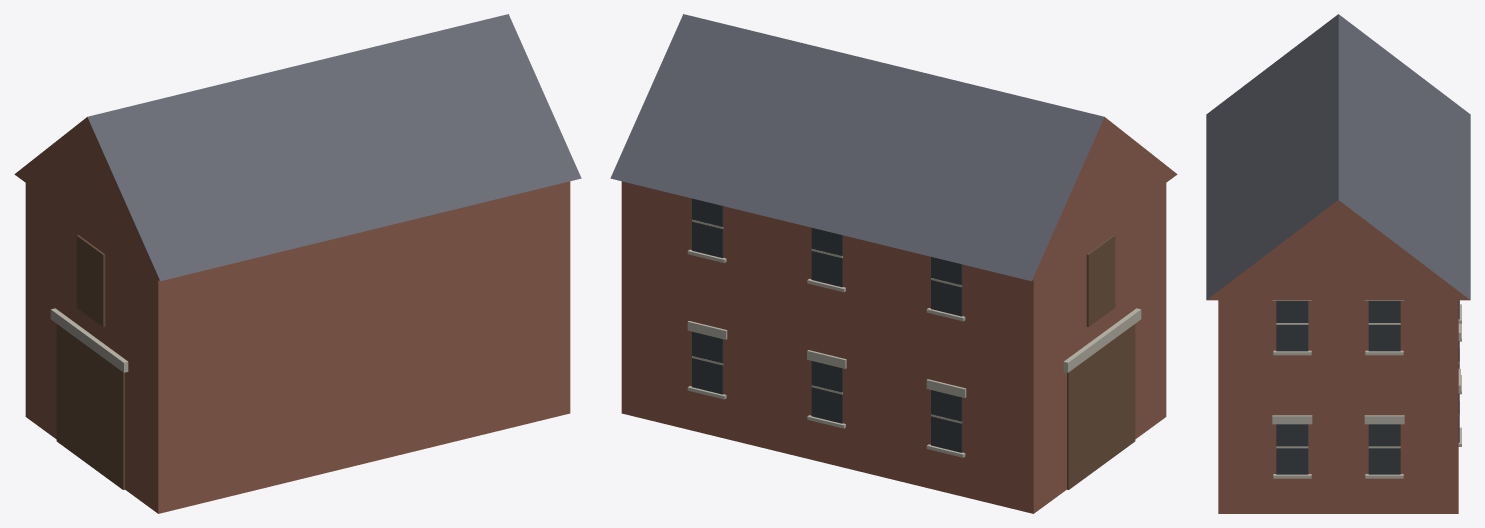
The model's file is house_1626_prairie_coach_house__draft_1904.glb.
The picture shows the model from 3 angles, left to right: view 1: azimuth 30°, elevation 25°; view 2: azimuth 150°, elevation 25°; view 3: azimuth 270°, elevation 25°; orthographic projection. The views are drawn at different scales.
Parts seen in each view (by area): view 1: house_1626_prairie_coach_house__draft_1904; view 2: house_1626_prairie_coach_house__draft_1904; view 3: house_1626_prairie_coach_house__draft_1904.
Boxes of the visible parts, <box> form: house_1626_prairie_coach_house__draft_1904: <box>14,14,581,513</box>; house_1626_prairie_coach_house__draft_1904: <box>610,14,1177,513</box>; house_1626_prairie_coach_house__draft_1904: <box>1206,14,1470,513</box>.
Bounding box in the file's own units: 10.99 × 8.72 × 6.6.
